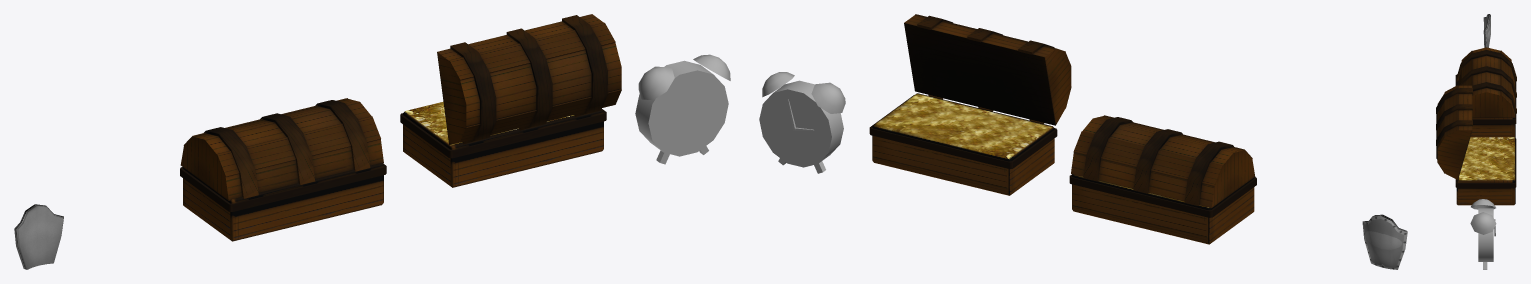
Rendered from ChestShieldMesh.fbx.
3 views of the same model, side by side, from view 1: azimuth 30°, elevation 25°; view 2: azimuth 150°, elevation 25°; view 3: azimuth 270°, elevation 25° (orthographic). The views are drawn at different scales.
Visible parts, largest first — view 1: OpenChest, ClosedChest, Clock, Shield; view 2: OpenChest, ClosedChest, Clock, Shield; view 3: OpenChest, ClosedChest, Clock, Shield.
Boxes of the visible parts, x1,y1,x2,y2 form: OpenChest: (400, 14, 621, 187); ClosedChest: (180, 98, 386, 241); Clock: (635, 54, 730, 164); Shield: (14, 204, 63, 269); OpenChest: (869, 14, 1071, 195); ClosedChest: (1069, 115, 1256, 244); Clock: (759, 72, 845, 173); Shield: (1362, 214, 1407, 269); OpenChest: (1436, 85, 1516, 205); ClosedChest: (1455, 47, 1516, 137); Clock: (1470, 199, 1496, 269); Shield: (1483, 14, 1490, 47).
Bounding box in the file's own units: 17.71 × 4.28 × 2.94.
